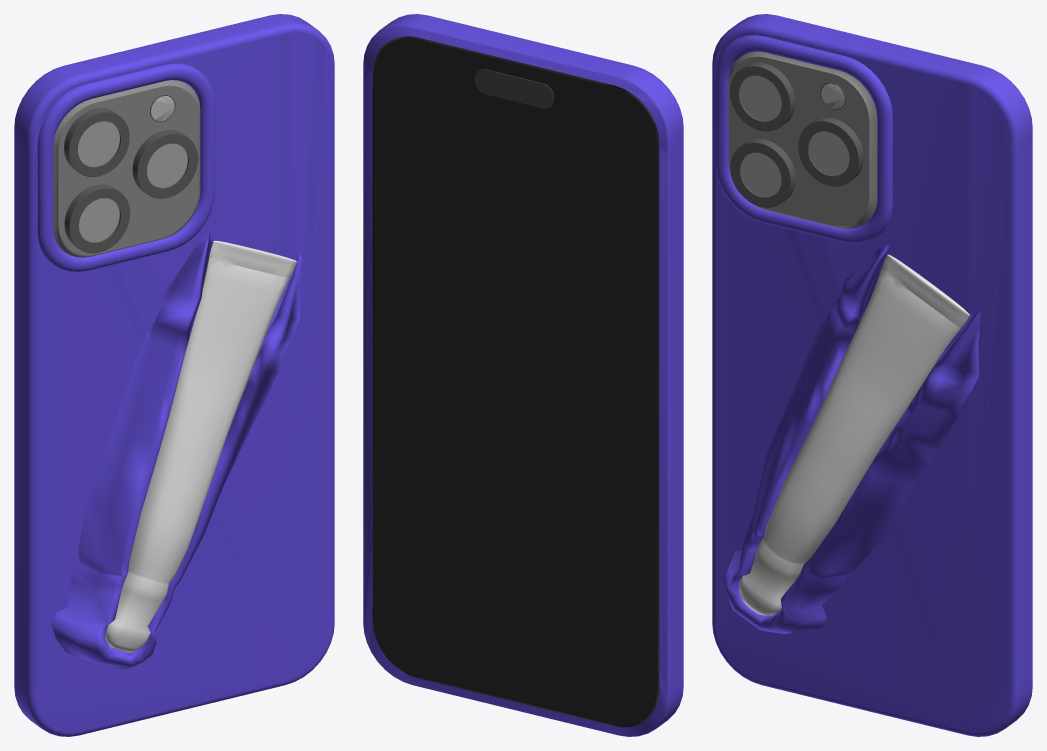
File: LipStickCase.fbx
3 renders of one model, left to right at view 1: azimuth 30°, elevation 25°; view 2: azimuth 150°, elevation 25°; view 3: azimuth 330°, elevation 25°, orthographic.
Parts seen in each view (by area): view 1: Case01.011, LipStickCase, Screen.006; view 2: Screen.006, Case01.011; view 3: Case01.011, LipStickCase, Screen.006.
Part boxes in pixels (x1,y1,x2,y2): Case01.011: (14,14,334,736); LipStickCase: (105,240,296,652); Screen.006: (53,80,200,257); Screen.006: (372,36,659,727); Case01.011: (363,14,683,736); Case01.011: (712,14,1032,736); LipStickCase: (739,254,969,615); Screen.006: (728,51,877,228).
Size of the model in its own units: 83.57 by 172 by 23.65.
